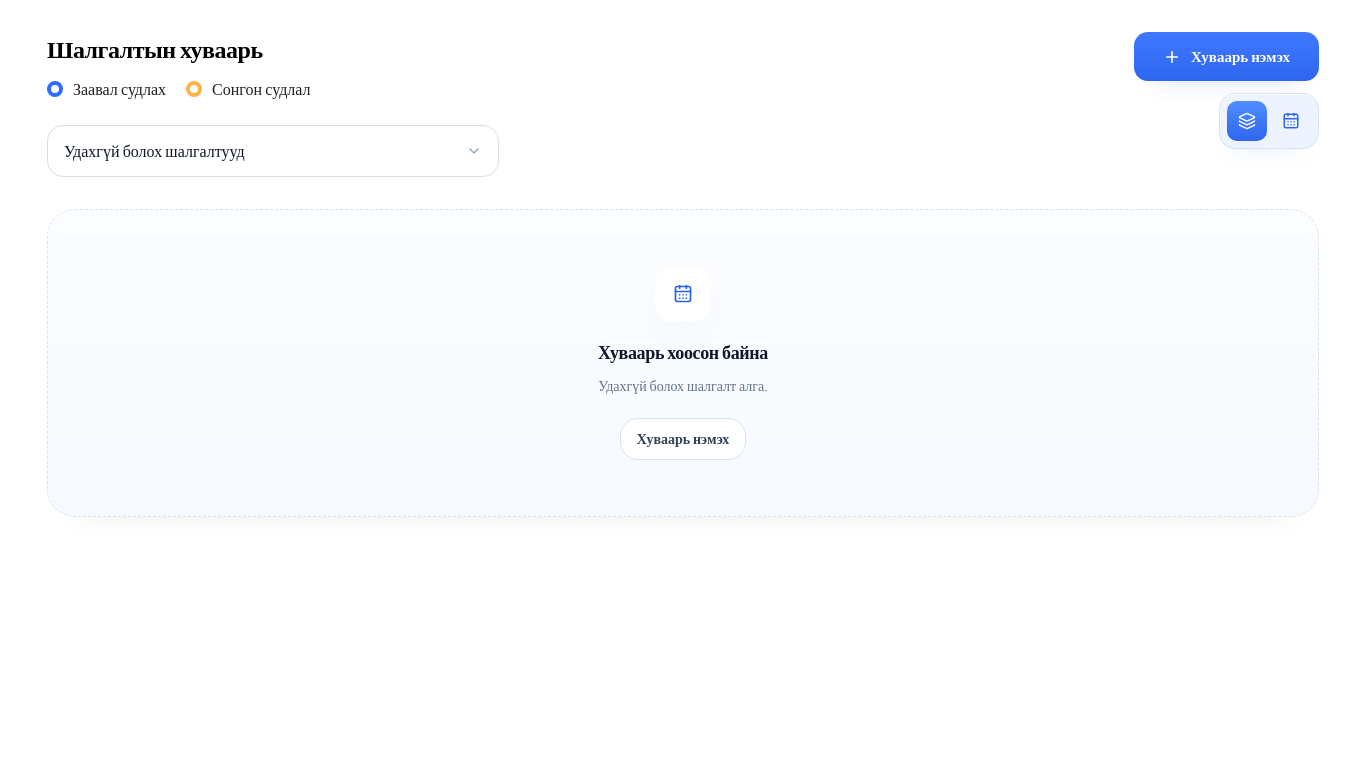
Test: TeacherStudentsTab › renders the schedule starting from today in calendar view
Click the button named "Calendar view" at (1291,121), box [1271, 101, 1311, 141]
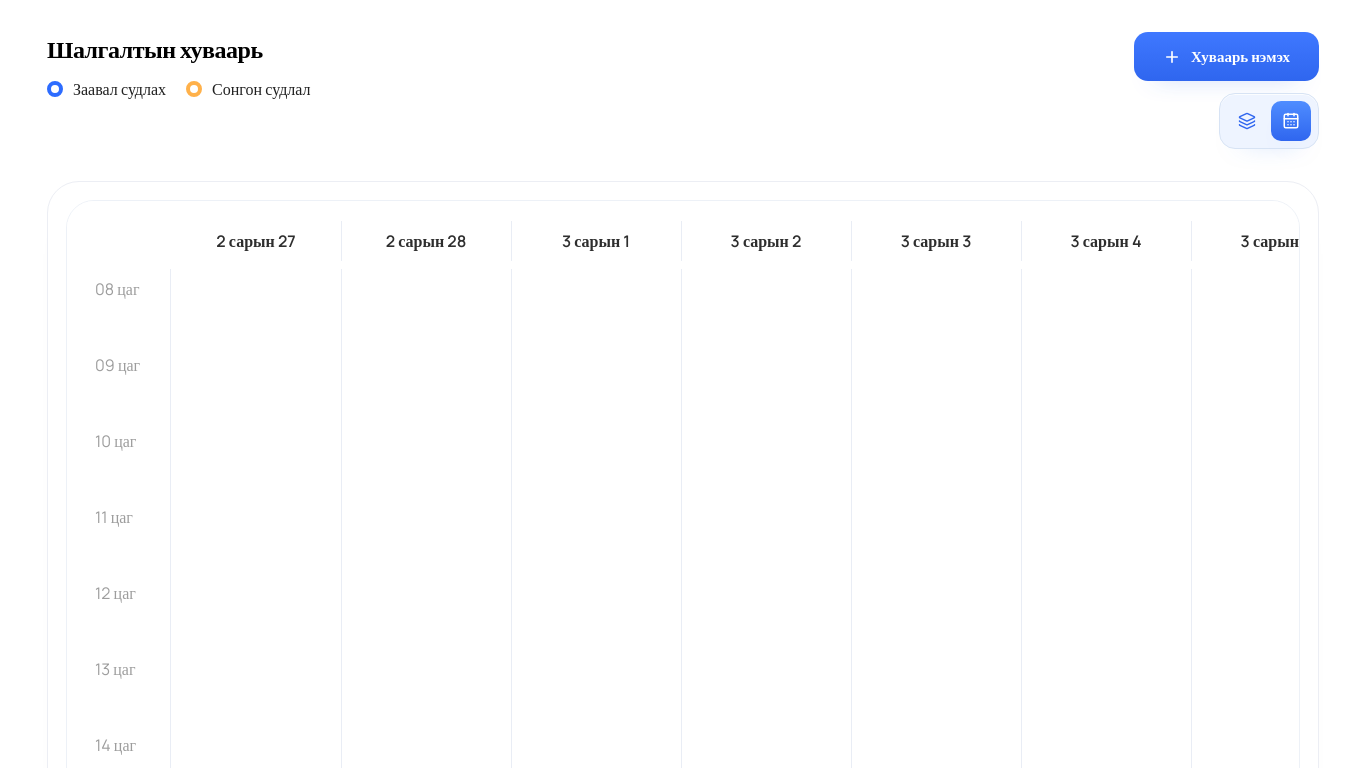
Expected: the text "08 цаг" is shown, [95, 278, 140, 300]
Expected: the button "Удахгүй болох шалгалтууд" is gone
